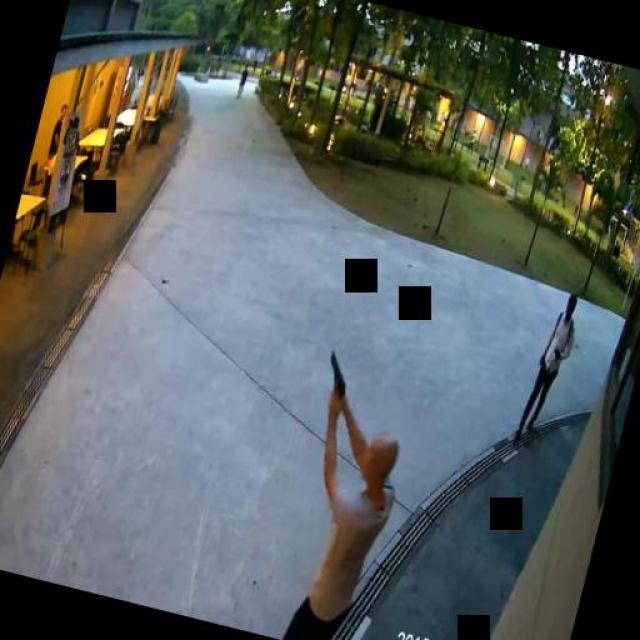gun: (317, 349, 355, 410)
